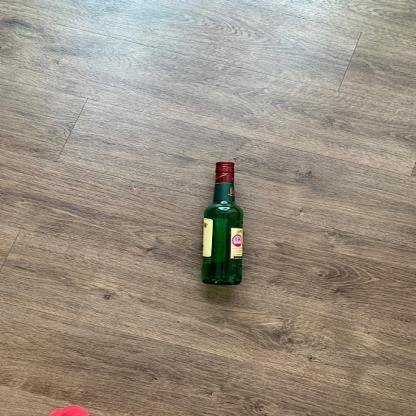trash: (198, 157, 248, 285)
